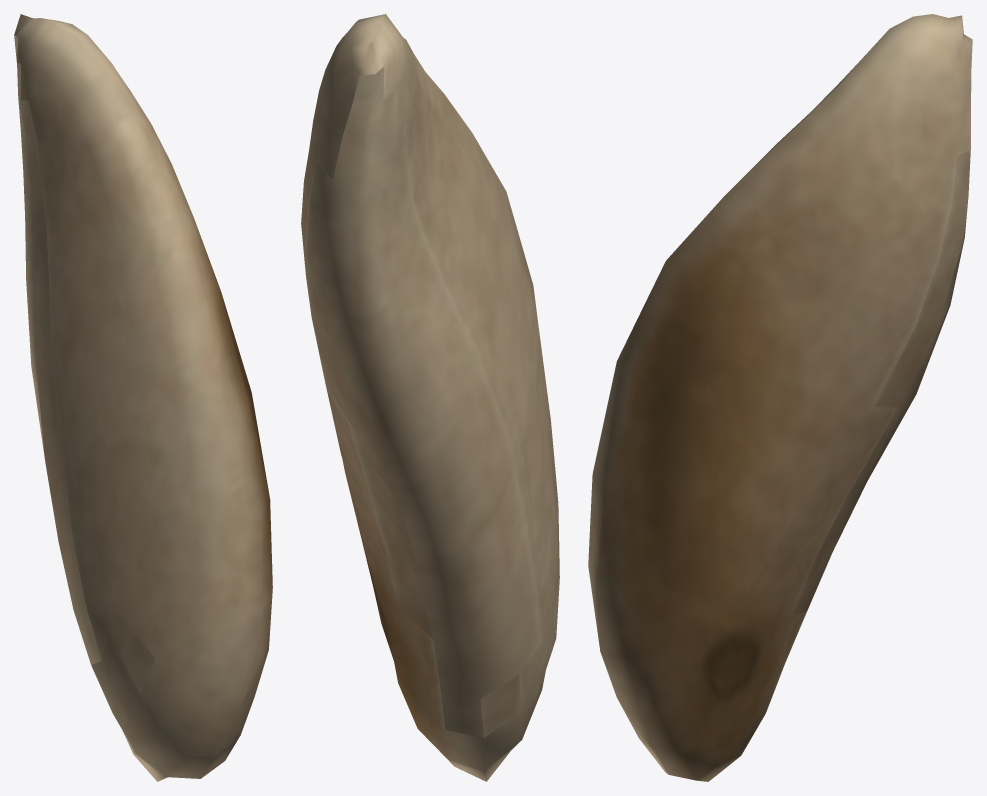
The model's file is Upper_Incisor.glb.
The picture shows the model from 3 angles, left to right: view 1: azimuth 30°, elevation 25°; view 2: azimuth 150°, elevation 25°; view 3: azimuth 270°, elevation 25°; orthographic projection. The views are drawn at different scales.
Parts seen in each view (by area): view 1: Upper_Incisors5; view 2: Upper_Incisors5; view 3: Upper_Incisors5.
Part boxes in pixels (bbox=[...]): Upper_Incisors5: bbox=[14, 14, 272, 781]; Upper_Incisors5: bbox=[301, 14, 559, 781]; Upper_Incisors5: bbox=[588, 14, 972, 781].
Bounding box in the file's own units: 0.00827 × 0.0346 × 0.016.
Materials: 1 (1 with a texture image).
